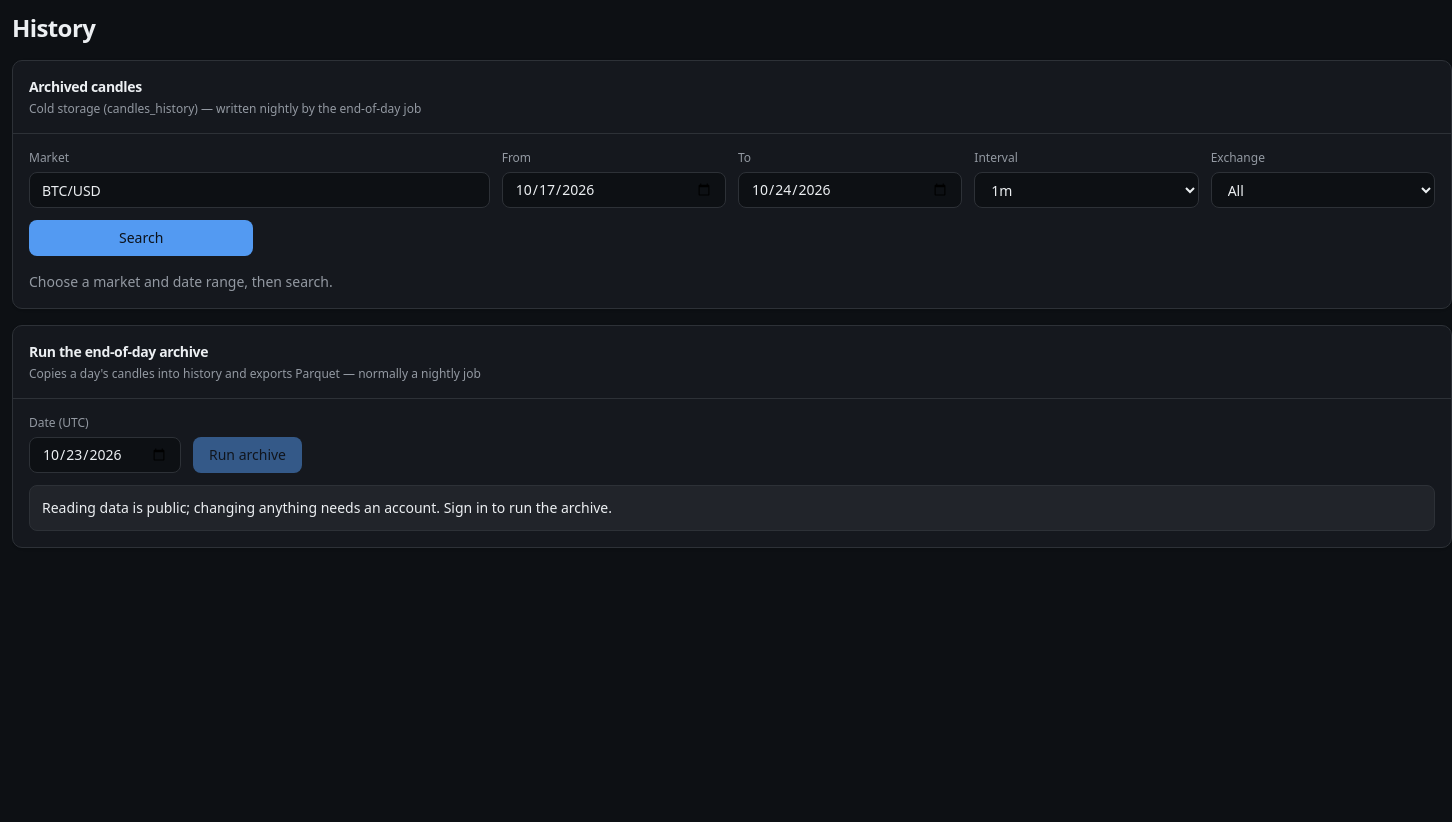
Test case: searching archived candles › shows the API's message for an unsupported market
This screenshot has width=1452, height=822.
Step 1. Type "ETH/BTC" into the field labelled "Market" → (259, 190), box left=29, top=172, right=490, bottom=208
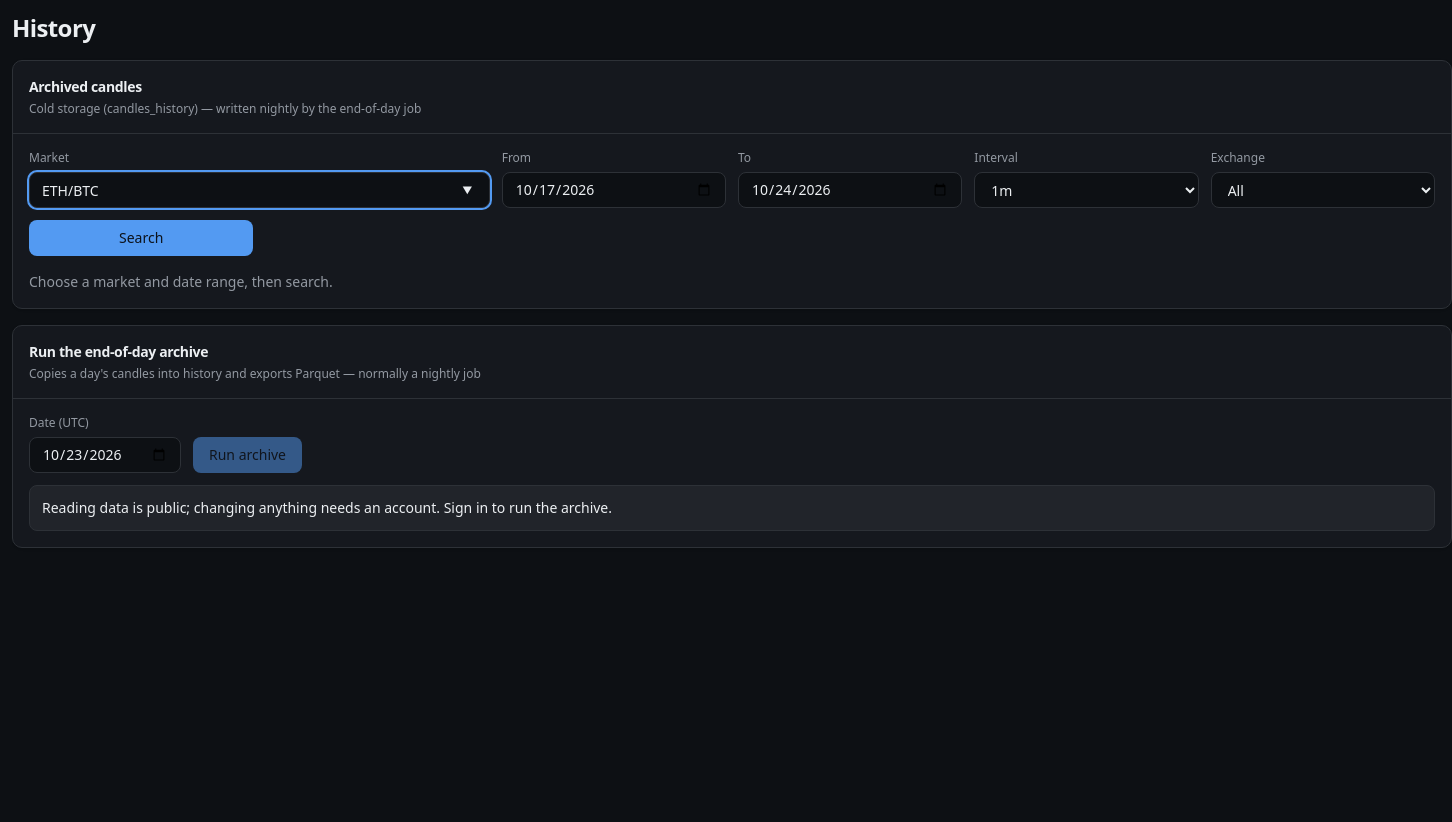
Step 2. Click the button "Search" → click(141, 238), box left=29, top=220, right=253, bottom=256
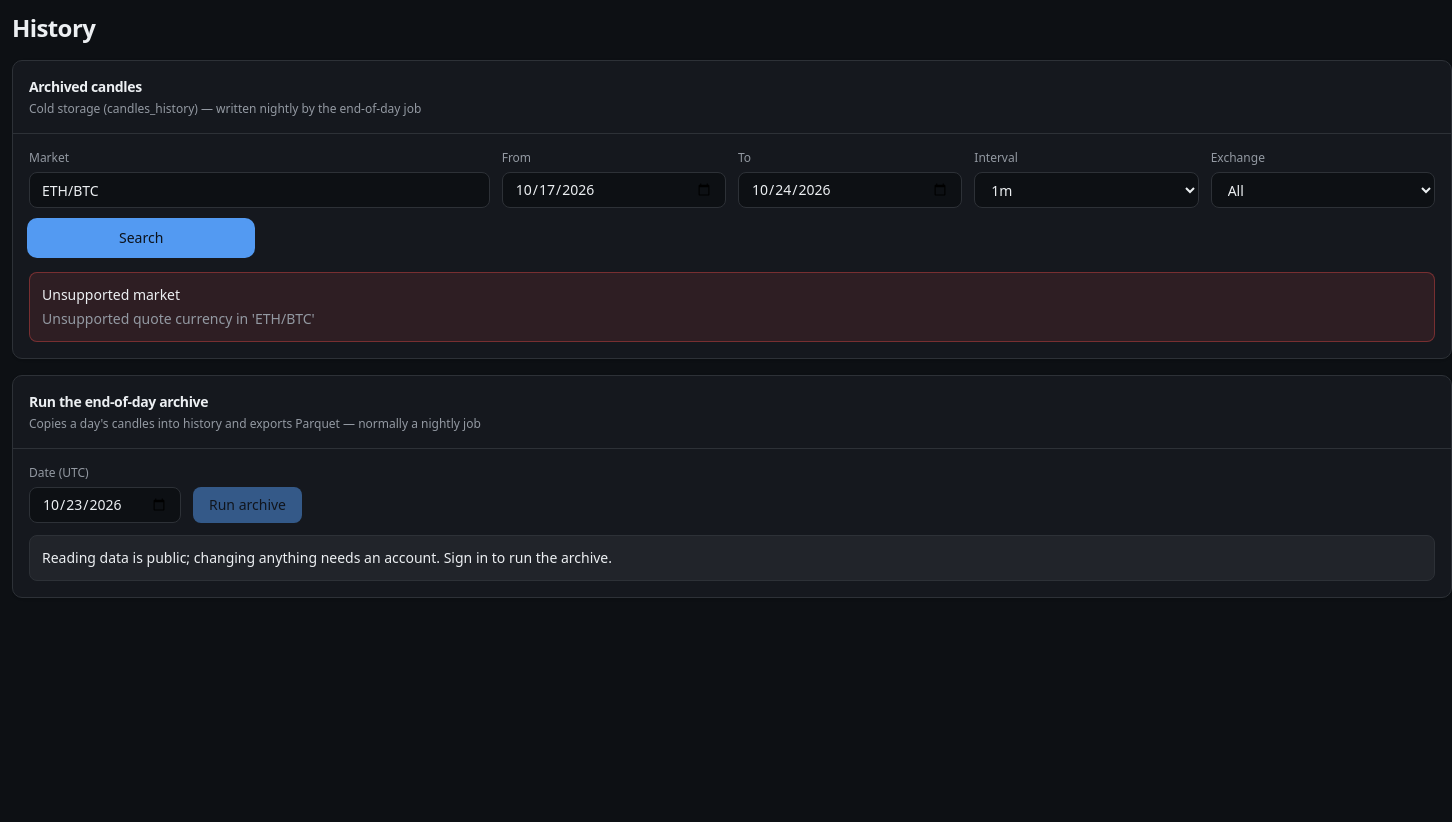
Now the text "Unsupported market" is shown, box left=42, top=285, right=180, bottom=304
Now the text "Unsupported quote currency in 'ETH/BTC'" is shown, box left=42, top=309, right=315, bottom=328
